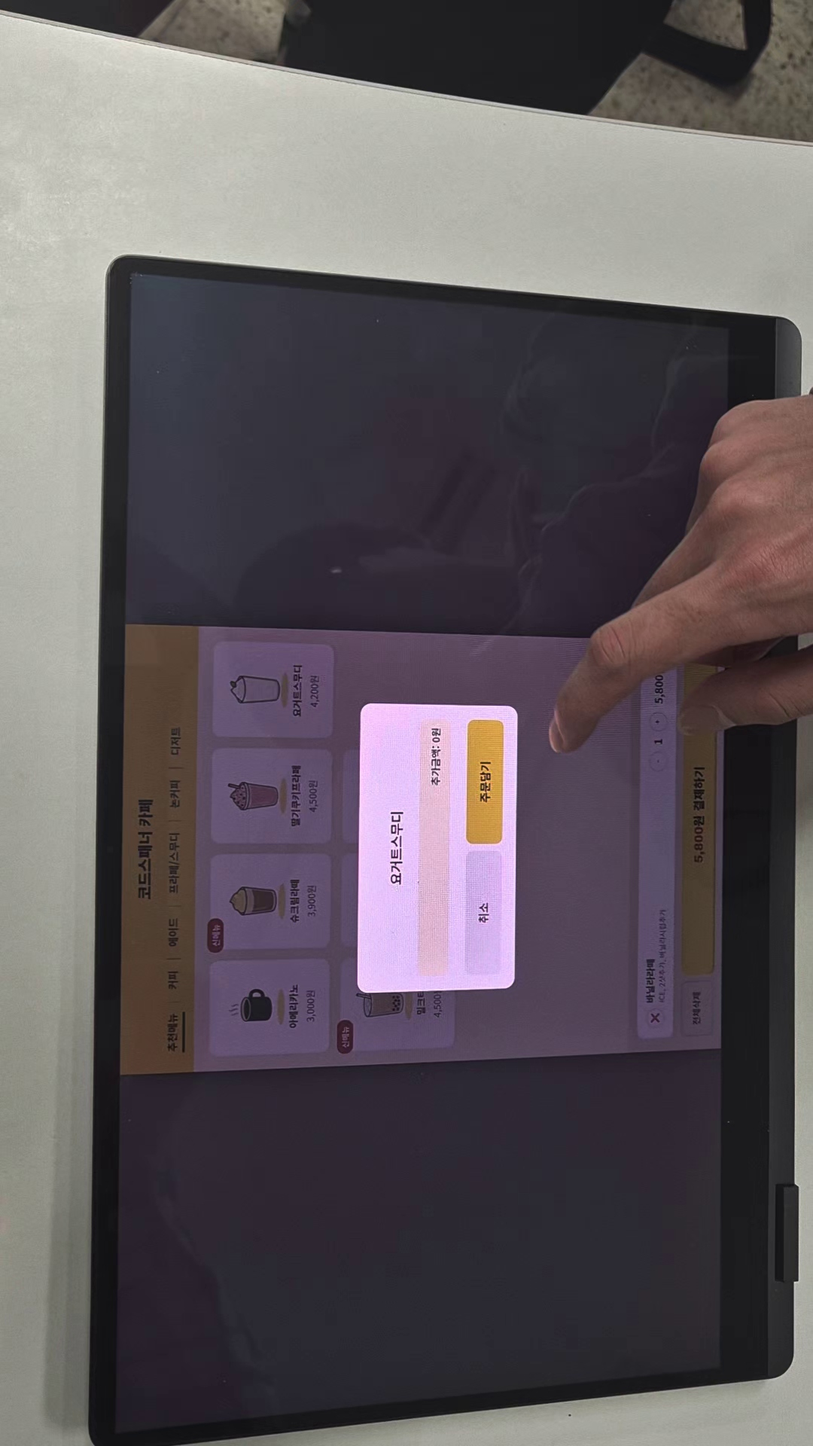action_button: (466, 720, 502, 844), (466, 852, 502, 976)
popup_modal: (359, 703, 517, 992)
